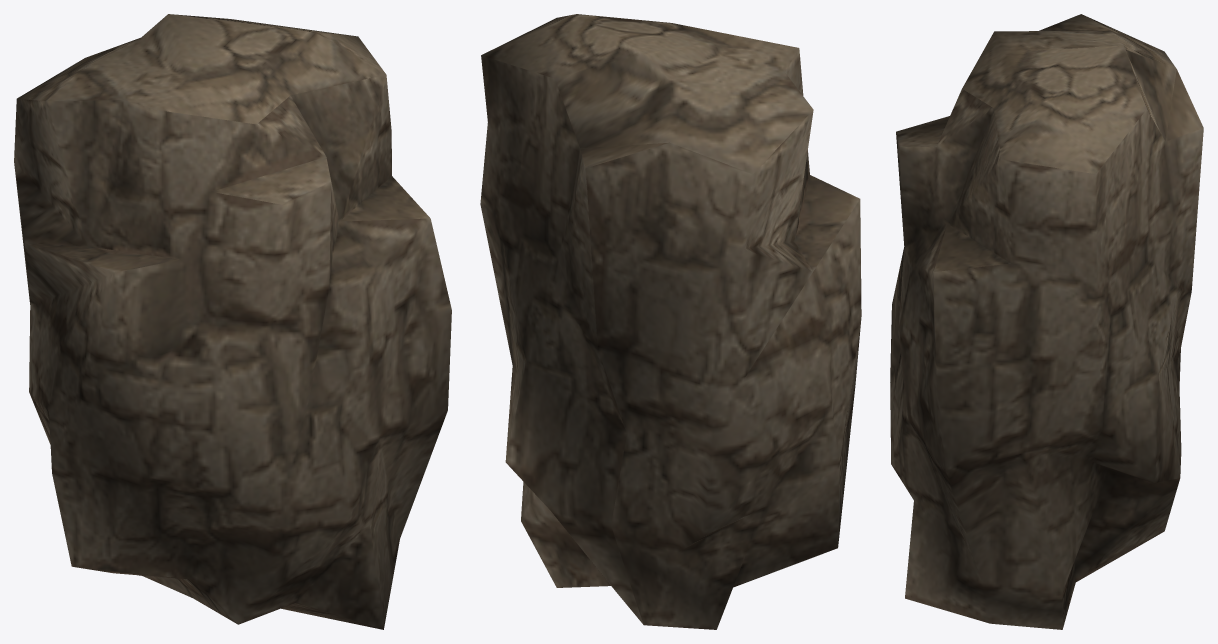
The model's file is shanti04.FBX.
The picture shows the model from 3 angles, left to right: view 1: azimuth 30°, elevation 25°; view 2: azimuth 150°, elevation 25°; view 3: azimuth 270°, elevation 25°; orthographic projection. The views are drawn at different scales.
Visible parts, largest first — view 1: Group29196; view 2: Group29196; view 3: Group29196.
Part boxes in pixels (x1,y1,x2,y2): Group29196: [14, 14, 451, 629]; Group29196: [480, 14, 861, 629]; Group29196: [890, 14, 1203, 629].
Bounding box in the file's own units: 43.87 × 71.43 × 38.24.
